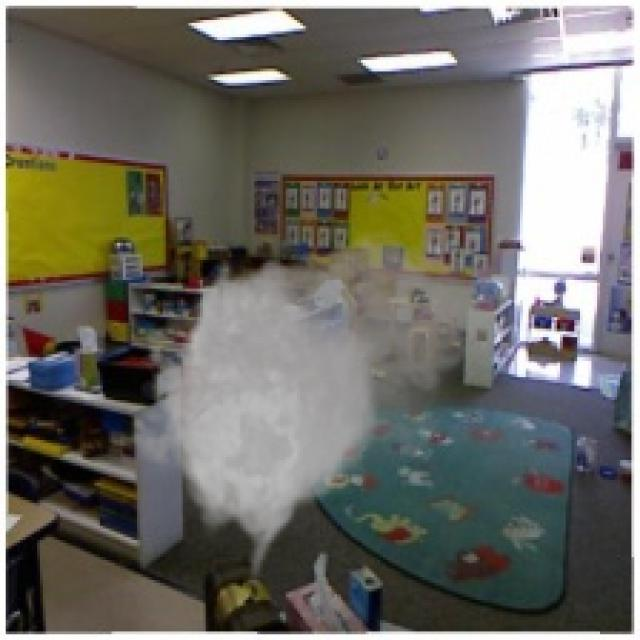smoke: (117, 220, 520, 591)
